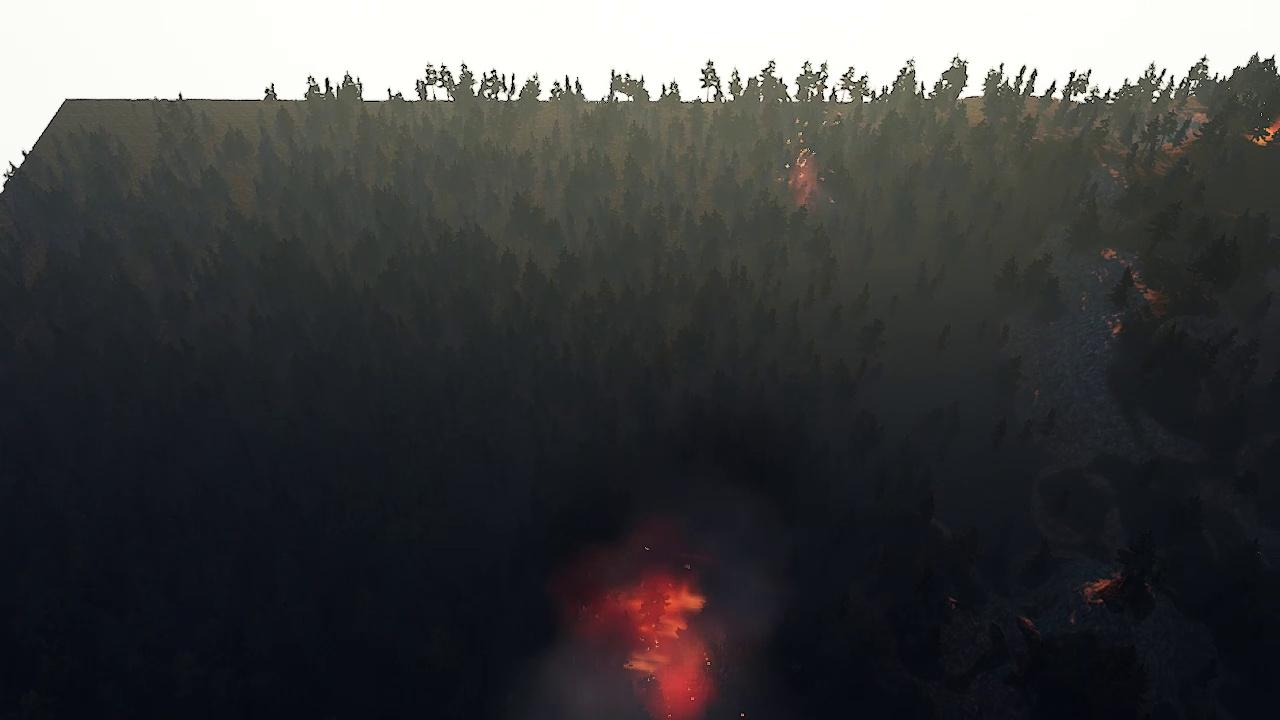fire: (594, 564, 721, 720), (785, 150, 819, 205), (1251, 121, 1279, 144)
smoke: (542, 483, 802, 720)
